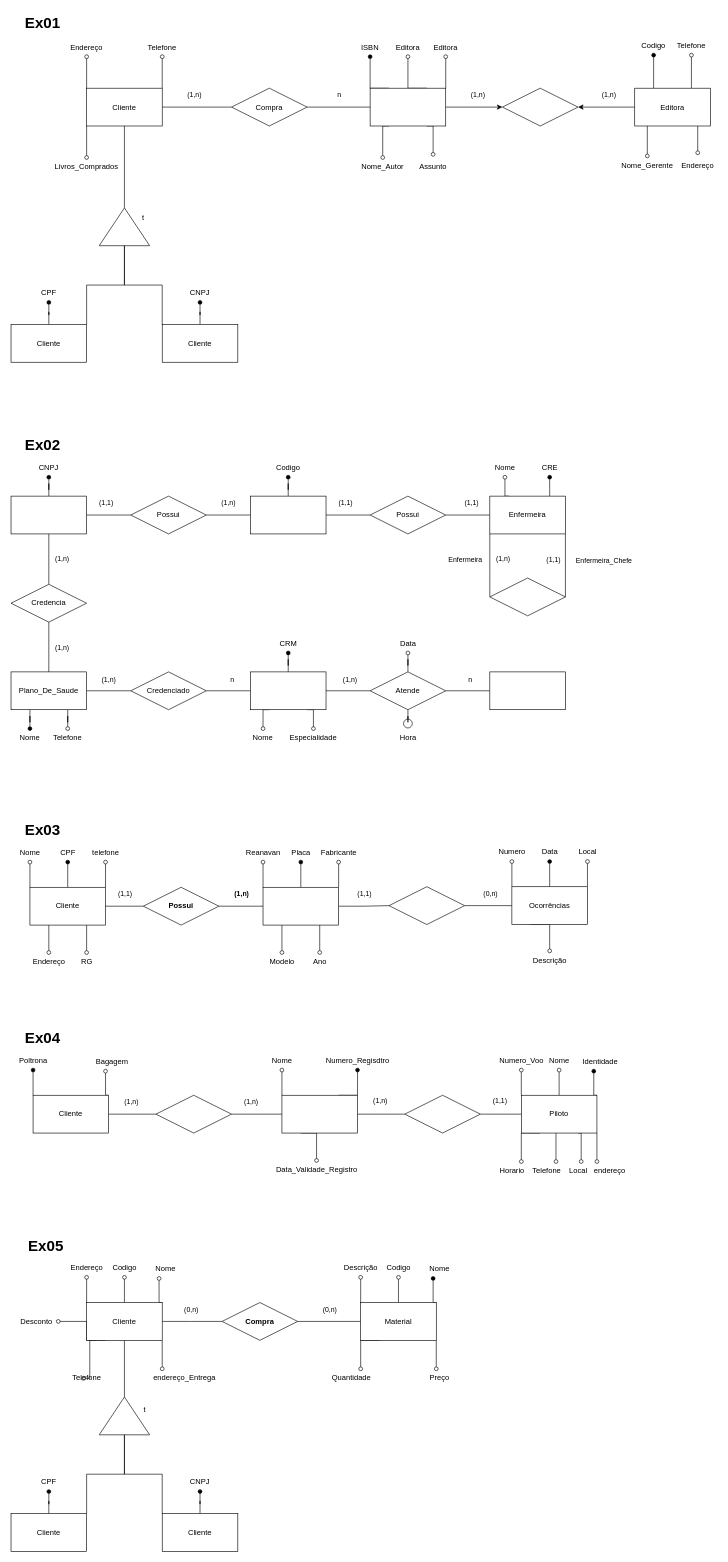
Some shapes in this 728 by 1562 pixel diagram are drawn without their labels. The shapes that lost their labels are listed below. From the top down, each one's centre as x and y in pixels, then its label:
the point at 407,107: Livro
the point at 540,107: Fornece
the point at 48,514: Hospital
the point at 288,514: Alas
the point at 527,596: reporta
the point at 288,690: Medico
the point at 527,690: Paciente
the point at 300,906: Carro
the point at 426,905: Tem
the point at 193,1114: voa
the point at 319,1114: Voo
the point at 442,1114: faz
